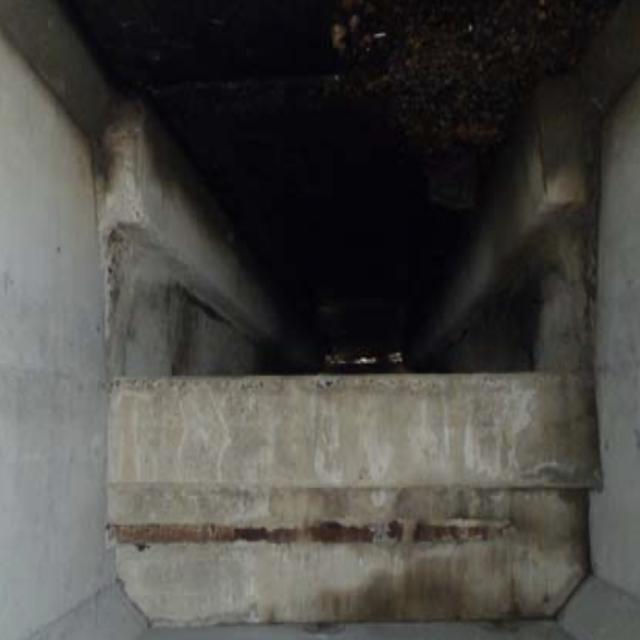leakage: (150, 113, 550, 364)
